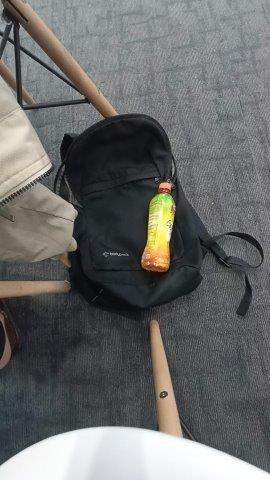botolplastik: (141, 182, 175, 272)
